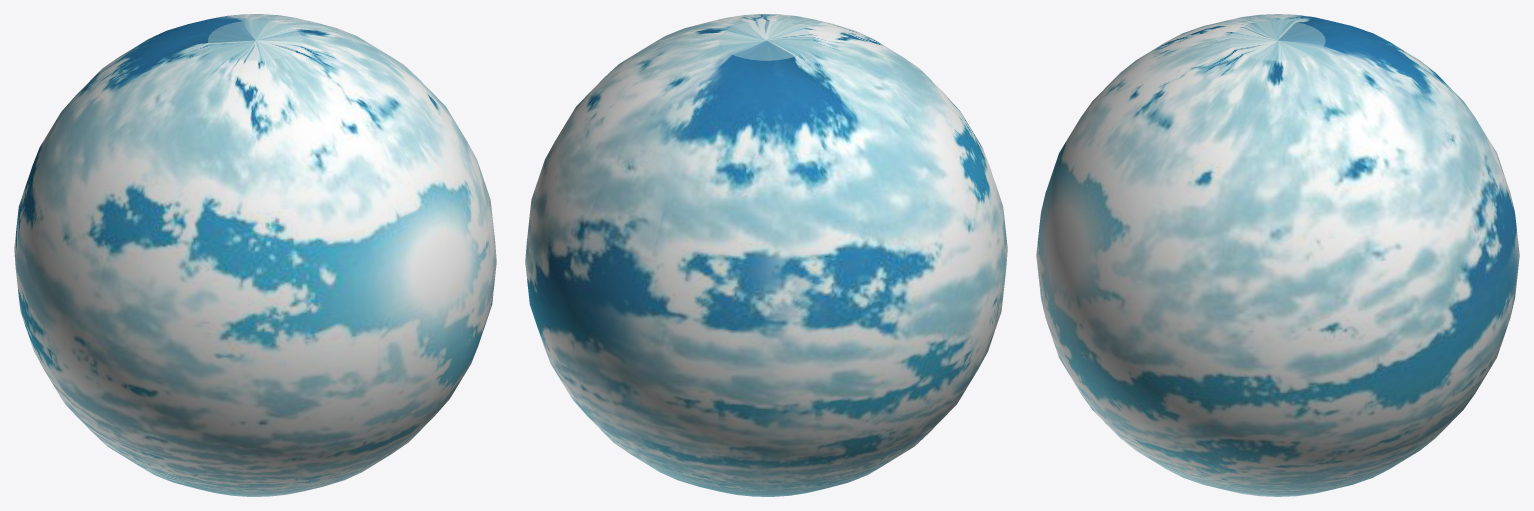
Rendered from skySphere.obj.
3 renders of one model, left to right at view 1: azimuth 30°, elevation 25°; view 2: azimuth 150°, elevation 25°; view 3: azimuth 270°, elevation 25°, orthographic.
Parts seen in each view (by area): view 1: Sphere; view 2: Sphere; view 3: Sphere.
Boxes of the visible parts, x1,y1,x2,y2 form: Sphere: [14, 14, 496, 496]; Sphere: [525, 14, 1007, 496]; Sphere: [1036, 14, 1519, 496].
Bounding box in the file's own units: 42.01 × 41.2 × 42.01.
Materials: 1 (1 with a texture image).
